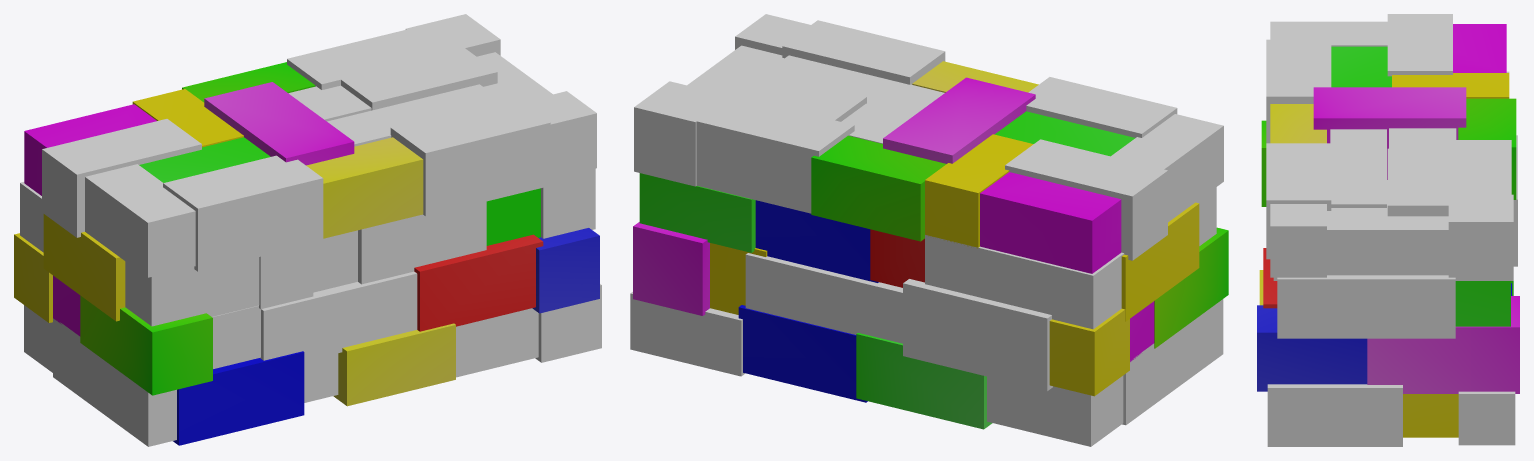
Rendered from Block2.fbx.
3 renders of one model, left to right at view 1: azimuth 30°, elevation 25°; view 2: azimuth 150°, elevation 25°; view 3: azimuth 270°, elevation 25°, orthographic. The views are drawn at different scales.
Visible parts, largest first — view 1: Block2.010_low, Block2.056_low, Block2.034_low, Block2.011_low, Block2.042_low, Block2.031_low, Block2.021_low, Block2.027_low, Block2.015_low, Block2.045_low, Block2.006_low, Block2.001_low (+27 smaller); view 2: Block2.055_low, Block2.022_low, Block2.017_low, Block2_low, Block2.053_low, Block2.038_low, Block2.015_low, Block2.019_low, Block2.054_low, Block2.006_low, Block2.024_low, Block2.035_low (+23 smaller); view 3: Block2.044_low, Block2.039_low, Block2.036_low, Block2.046_low, Block2.006_low, Block2.040_low, Block2.007_low, Block2.058_low, Block2.010_low, Block2.002_low, Block2.056_low, Block2.057_low (+15 smaller).
Boxes of the visible parts, x1,y1,x2,y2 form: Block2.010_low: (390,97,550,216); Block2.056_low: (163,155,323,271); Block2.034_low: (260,271,417,361); Block2.011_low: (85,164,195,277); Block2.042_low: (414,234,543,331); Block2.031_low: (80,295,212,395); Block2.021_low: (173,351,304,445); Block2.027_low: (306,137,423,238); Block2.015_low: (42,119,201,237); Block2.045_low: (333,323,455,406); Block2.006_low: (204,82,354,165); Block2.001_low: (53,318,176,446); Block2.055_low: (696,94,854,213); Block2.022_low: (903,279,1052,391); Block2.017_low: (980,172,1121,273); Block2_low: (925,235,1124,329); Block2.053_low: (811,135,946,241); Block2.038_low: (745,253,902,343); Block2.015_low: (1005,139,1167,260); Block2.019_low: (856,333,992,429); Block2.054_low: (738,305,867,402); Block2.006_low: (883,77,1035,163); Block2.024_low: (987,375,1123,446); Block2.035_low: (630,292,744,376); Block2.044_low: (1277,275,1455,338); Block2.039_low: (1367,296,1519,393); Block2.036_low: (1267,384,1402,446); Block2.046_low: (1327,206,1448,275); Block2.006_low: (1313,87,1466,179); Block2.040_low: (1257,305,1367,391); Block2.007_low: (1448,194,1513,280); Block2.058_low: (1330,129,1386,207); Block2.010_low: (1266,143,1331,259); Block2.002_low: (1270,204,1326,277); Block2.056_low: (1266,39,1331,143); Block2.057_low: (1387,148,1451,216).
Bounding box in the file's own units: 2.04 × 1.03 × 1.08.
